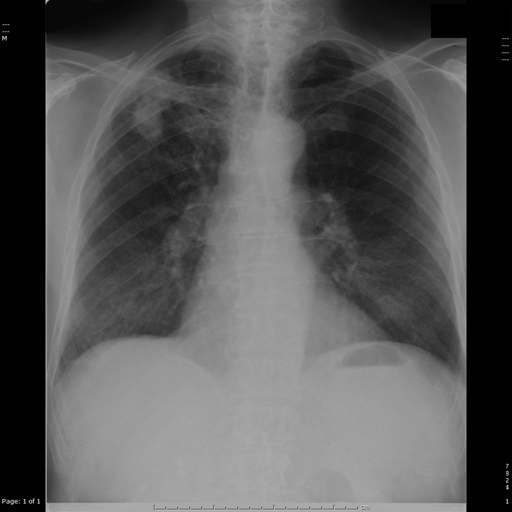TB: (121, 74, 218, 150)
